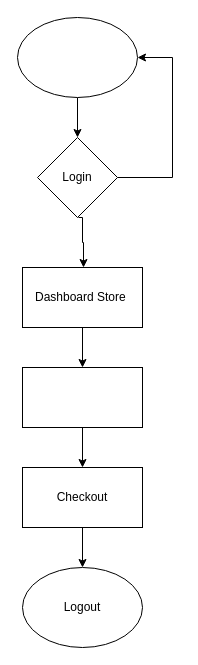
The diagram is 198 pixels wide and 665 high, and some of its shapes have lost their labels. The box of each missing label's shape, as (x1, y1, x2, y2) in pixels:
Pilih Produk: (22, 366, 142, 428)
User: (16, 16, 138, 98)
